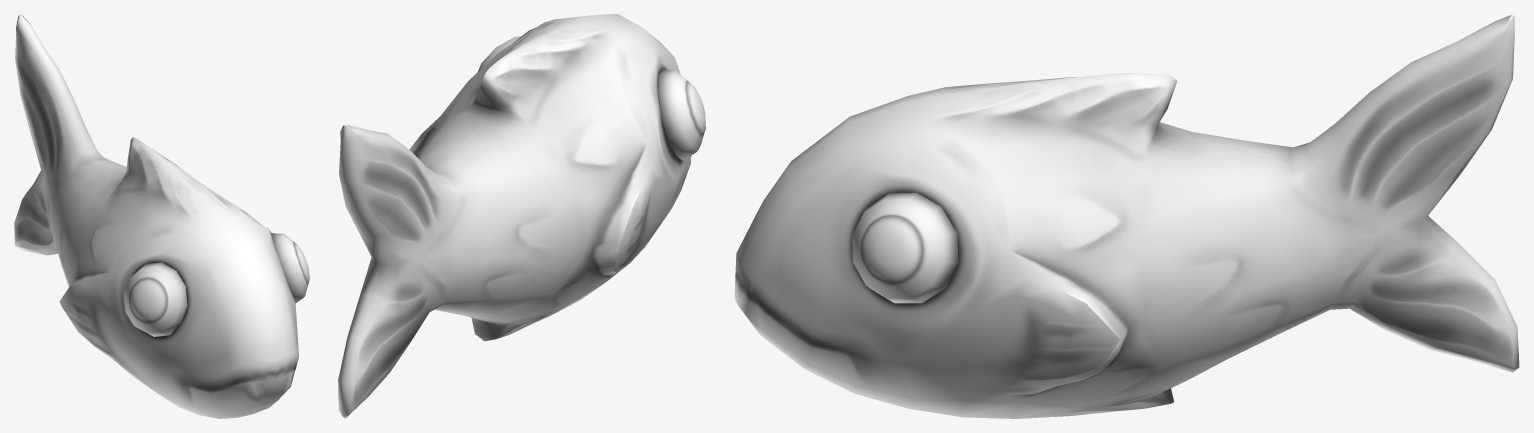
The model's file is 182_a_fish_lp.fbx.
3 views of the same model, side by side, from view 1: azimuth 30°, elevation 25°; view 2: azimuth 150°, elevation 25°; view 3: azimuth 270°, elevation 25° (orthographic). The views are drawn at different scales.
Parts seen in each view (by area): view 1: 182_a_fish; view 2: 182_a_fish; view 3: 182_a_fish.
Boxes of the visible parts, x1,y1,x2,y2 form: 182_a_fish: [14, 14, 309, 418]; 182_a_fish: [338, 14, 705, 418]; 182_a_fish: [734, 14, 1519, 418].
Size of the model in its own units: 11.24 by 15.21 by 27.25.
